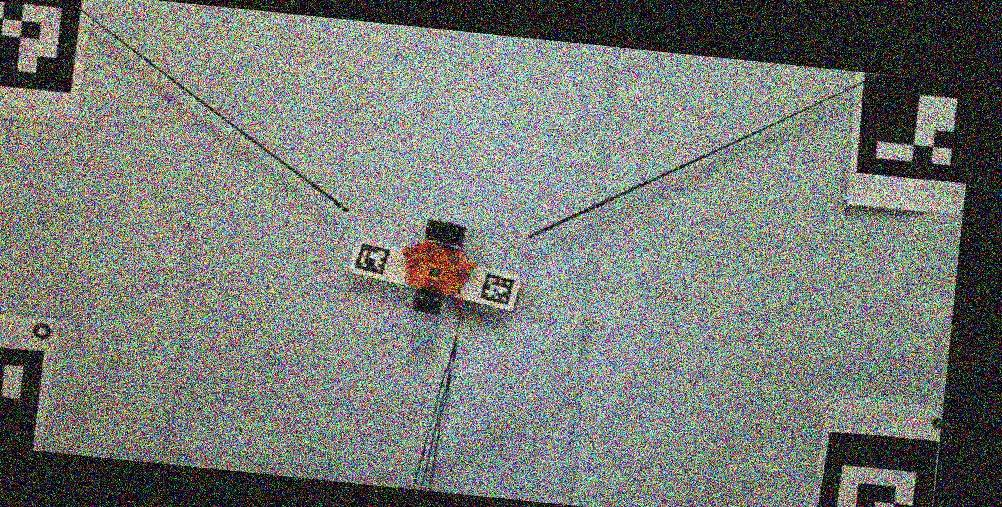robot: (402, 217, 474, 314)
